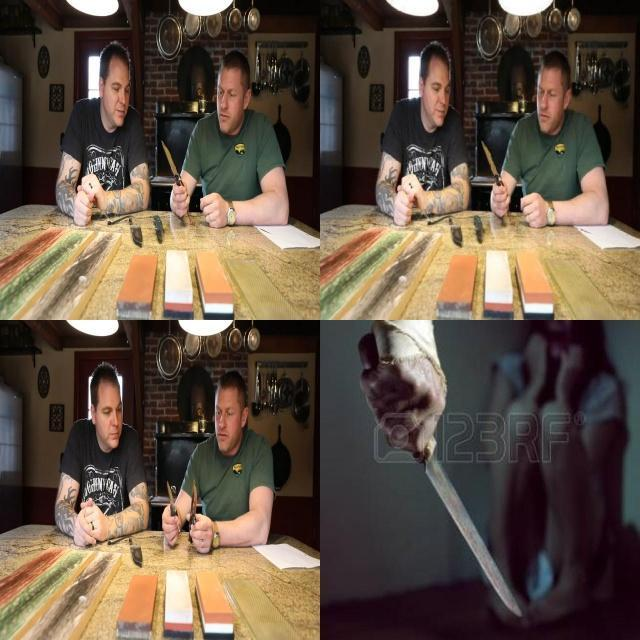-: (359, 330, 527, 624), (478, 138, 512, 213), (160, 139, 192, 211), (164, 479, 184, 546), (438, 213, 466, 253), (187, 478, 200, 544), (124, 534, 146, 570), (126, 214, 144, 249), (472, 213, 489, 247), (150, 212, 166, 248)
